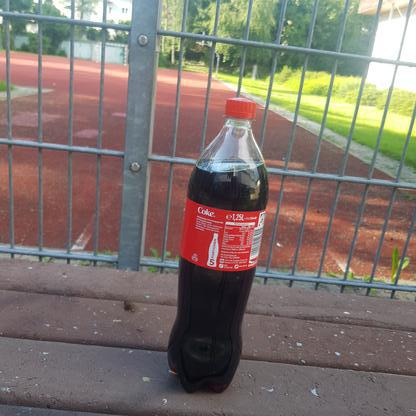coca-cola: (166, 93, 272, 397)
